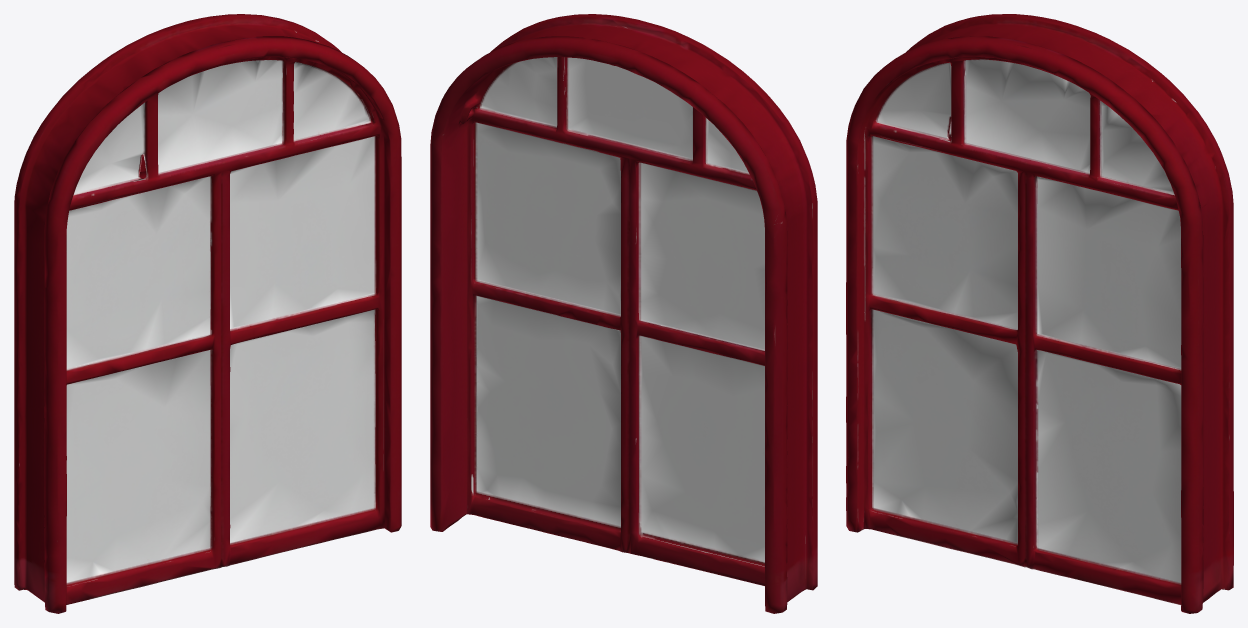
Rendered from Meshy_AI_Crimson_Arch_Window_0303132121_texture.fbx.
3 views of the same model, side by side, from view 1: azimuth 30°, elevation 25°; view 2: azimuth 150°, elevation 25°; view 3: azimuth 330°, elevation 25° (orthographic).
Parts seen in each view (by area): view 1: Mesh1.0; view 2: Mesh1.0; view 3: Mesh1.0.
Boxes of the visible parts, x1,y1,x2,y2 form: Mesh1.0: [14, 14, 401, 613]; Mesh1.0: [430, 14, 817, 613]; Mesh1.0: [846, 14, 1233, 613].
Size of the model in its own units: 135 by 191 by 27.61.
1 material, 1 textured.
